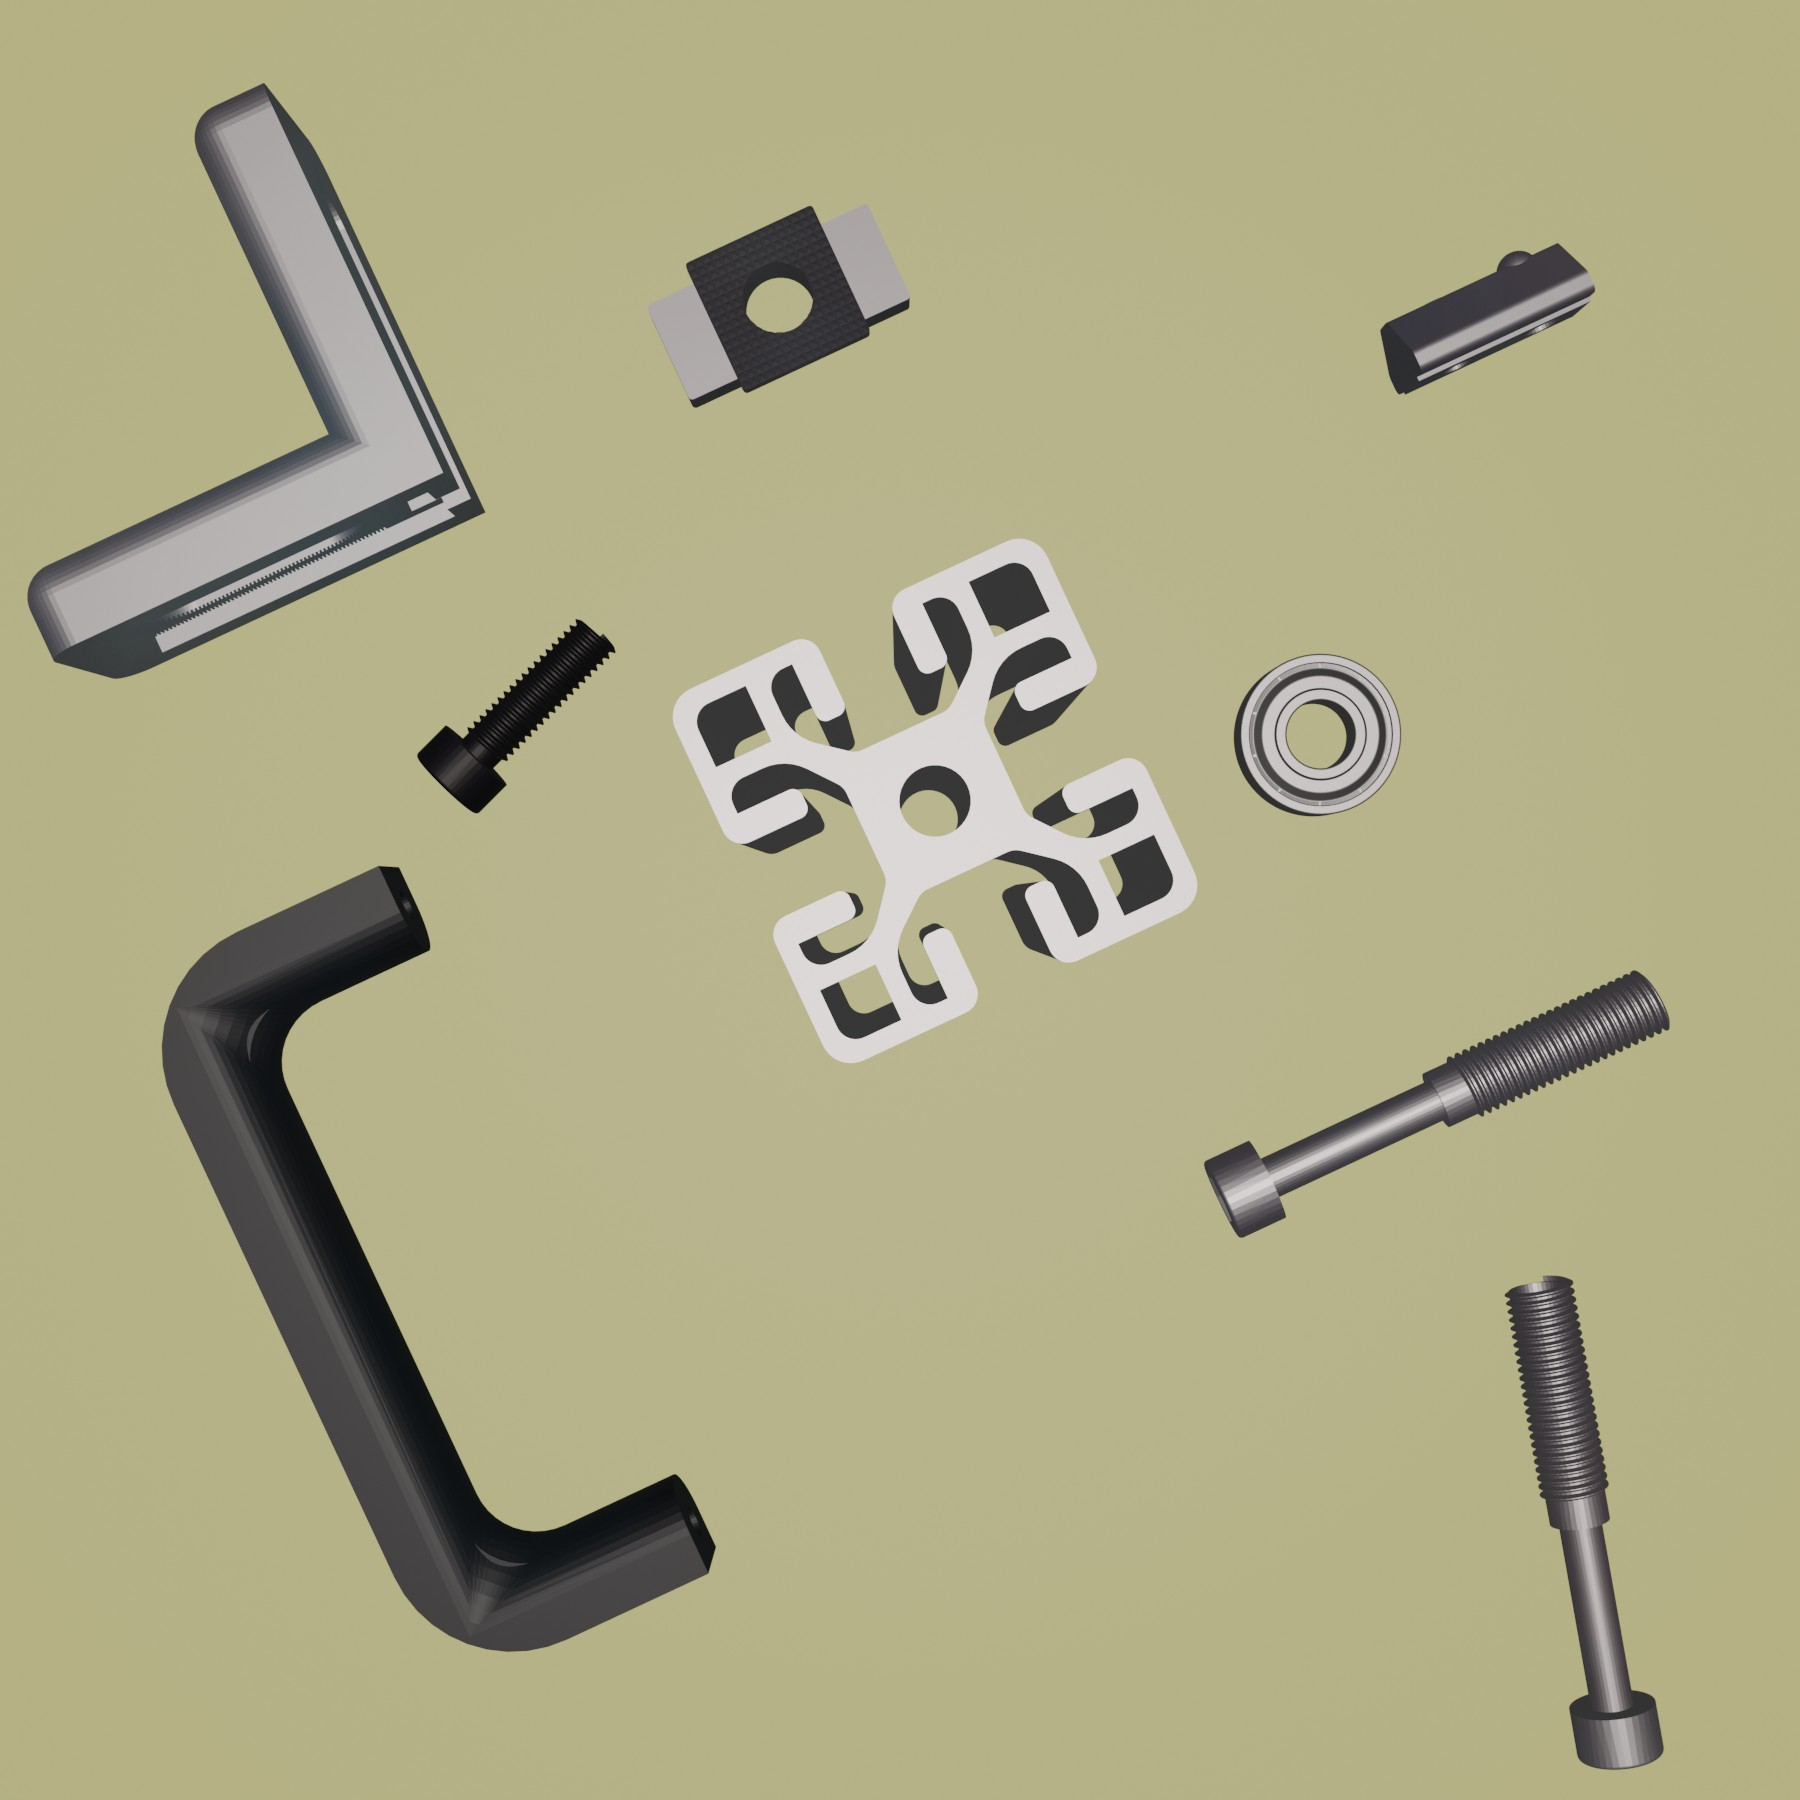Aluminium Extension: (669, 536, 1202, 1068)
Ball Bearing: (1230, 649, 1406, 819)
Multiwinkel: (26, 82, 488, 681)
Pull Handle: (158, 860, 717, 1653)
Shoulder Socket Head Cap Screw: (1202, 964, 1673, 1241), (1502, 1273, 1670, 1772)
Socket Head Cap Screw: (415, 613, 616, 818)
T Nut Square: (645, 198, 916, 412)
T Spring Nut: (1376, 237, 1596, 401)
